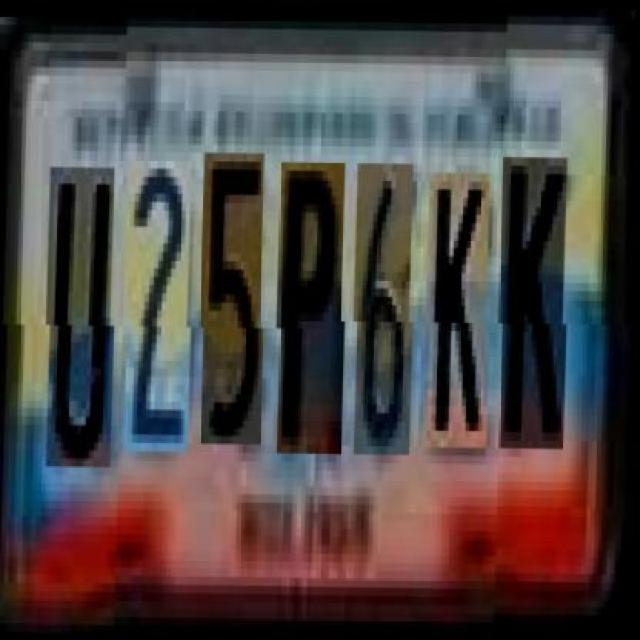2: (126, 159, 197, 452)
5: (203, 151, 269, 444)
6: (357, 161, 418, 454)
k: (502, 164, 572, 456), (430, 171, 496, 447)
p: (280, 161, 351, 453)
u: (49, 158, 120, 458)
